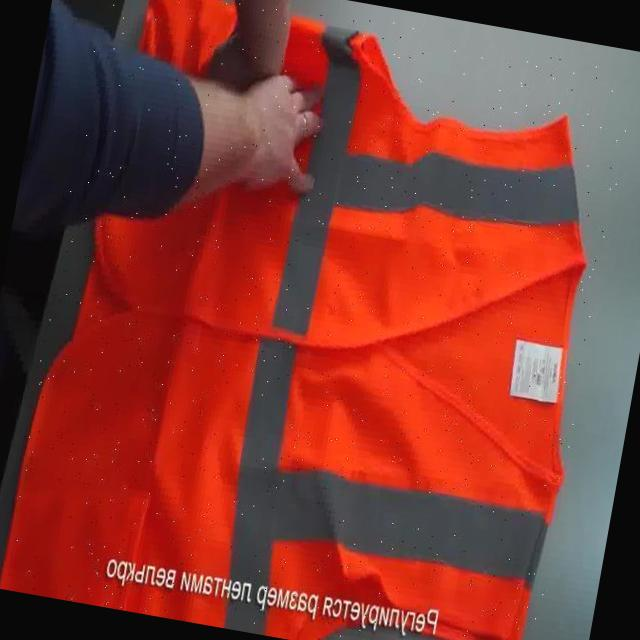no-gloves: (152, 34, 367, 237)
vest: (0, 0, 637, 640)
